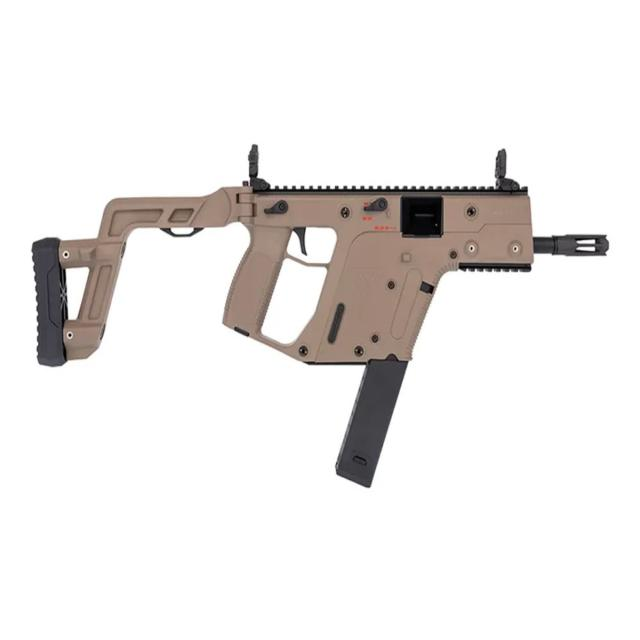SMG: (31, 149, 610, 489)
